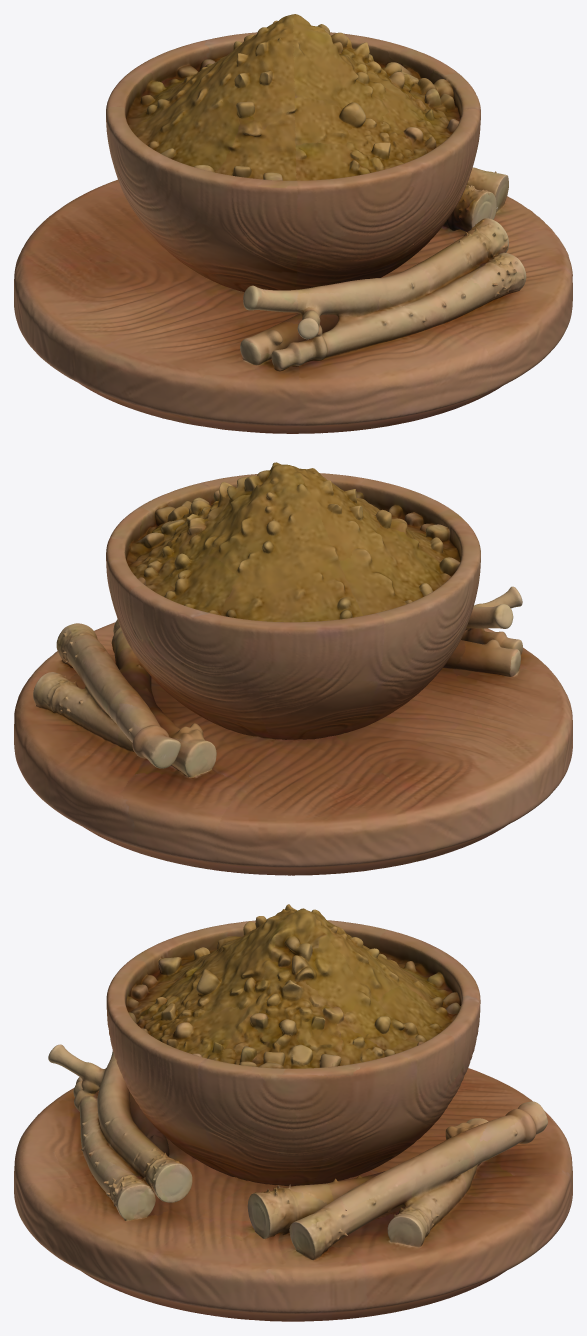
Rendered from ashwagandha-compress.glb.
3 views of the same model, one above another, from view 1: azimuth 30°, elevation 25°; view 2: azimuth 150°, elevation 25°; view 3: azimuth 270°, elevation 25° (orthographic).
Visible parts, largest first — view 1: tripo_node_1d11d924-6cc9-4796-965d-cef744c7e707; view 2: tripo_node_1d11d924-6cc9-4796-965d-cef744c7e707; view 3: tripo_node_1d11d924-6cc9-4796-965d-cef744c7e707.
Part boxes in pixels (bbox=[...]): tripo_node_1d11d924-6cc9-4796-965d-cef744c7e707: bbox=[14, 14, 572, 433]; tripo_node_1d11d924-6cc9-4796-965d-cef744c7e707: bbox=[14, 462, 572, 875]; tripo_node_1d11d924-6cc9-4796-965d-cef744c7e707: bbox=[14, 904, 572, 1321].
Bounding box in the file's own units: 1 × 0.6067 × 1.
Materials: 1 (1 with a texture image).
